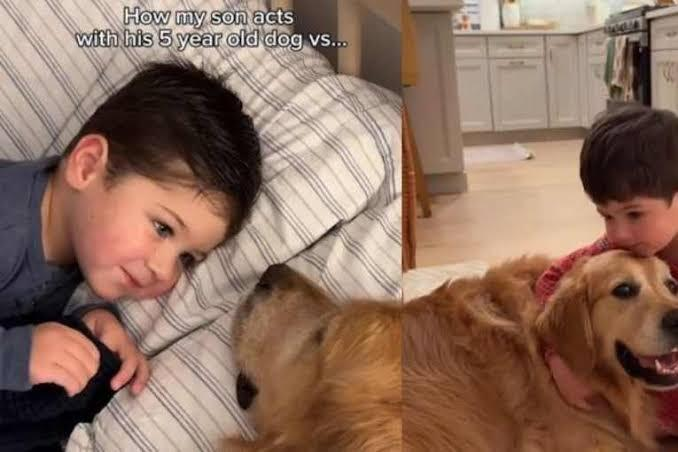adult_dog: (401, 249, 678, 452), (212, 262, 402, 452)
non-dog: (1, 58, 265, 444), (533, 107, 678, 442)
